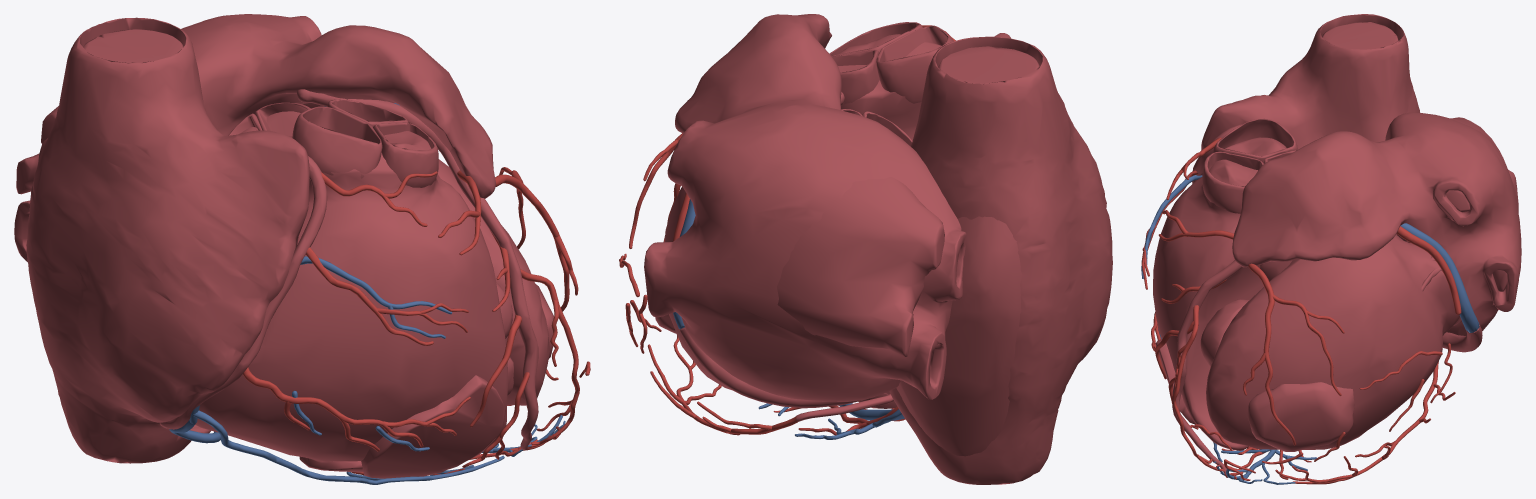
File: heart.glb
3 views of the same model, side by side, from view 1: azimuth 30°, elevation 25°; view 2: azimuth 150°, elevation 25°; view 3: azimuth 270°, elevation 25° (orthographic). The views are drawn at different scales.
Visible parts, largest first — view 1: heart; view 2: heart; view 3: heart.
Part boxes in pixels (left/top/right/bottom): heart: left=14, top=14, right=590, bottom=484; heart: left=619, top=14, right=1112, bottom=484; heart: left=1141, top=14, right=1521, bottom=484.
Size of the model in its own units: 0.1156 by 0.105 by 0.1064.
